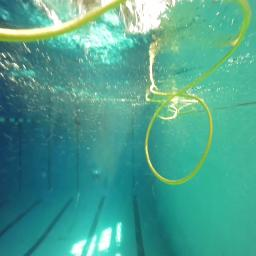Full: (91, 169, 100, 179)
